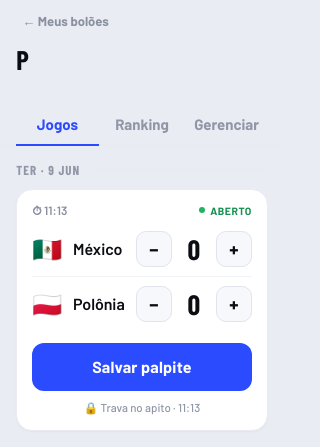
PoolPage › organizer: Gerenciar tab shows empty state when no pending requests
What coordinates should you click on to do the following:
click the button "Gerenciar"
I would click on:
 (227, 124)
Its box is [185, 104, 268, 146].
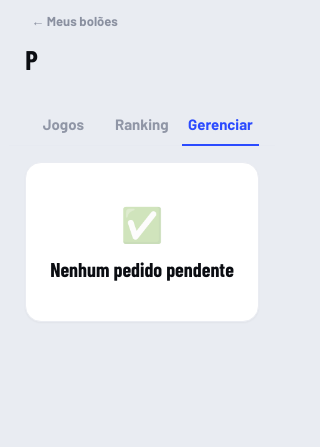
Result: the text "Nenhum pedido pendente" is shown at [50, 256, 234, 280]
